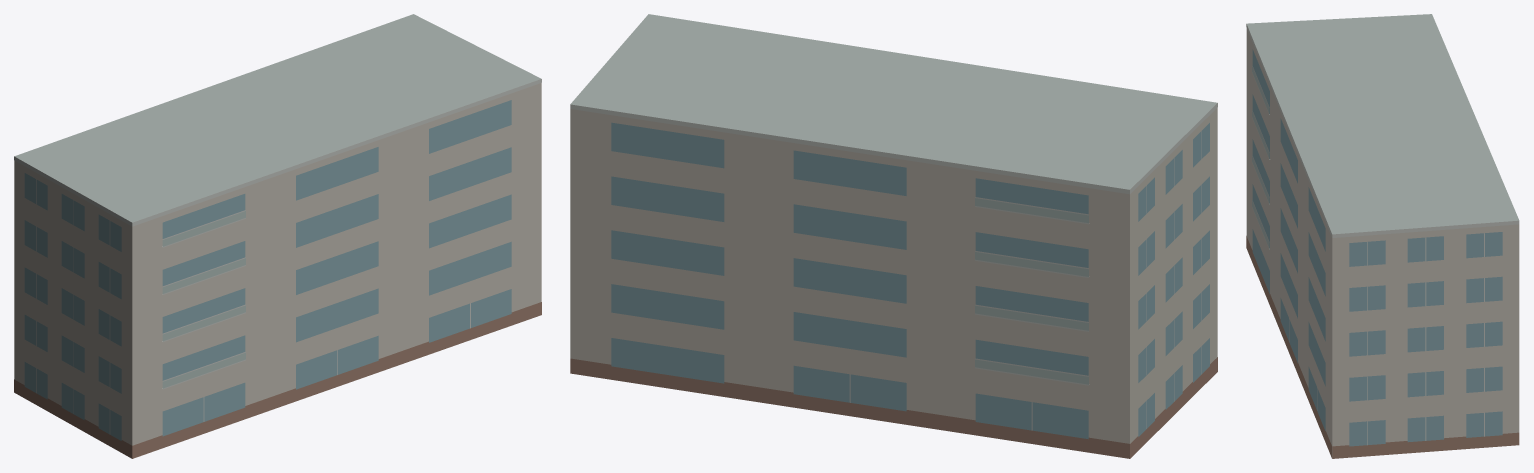
The model's file is survey-upis-32719583.glb.
3 views of the same model, side by side, from view 1: azimuth 30°, elevation 25°; view 2: azimuth 150°, elevation 25°; view 3: azimuth 270°, elevation 25° (orthographic). The views are drawn at different scales.
Visible parts, largest first — view 1: survey-upis-32719583.tmp; view 2: survey-upis-32719583.tmp; view 3: survey-upis-32719583.tmp.
Part boxes in pixels (left/top/right/bottom): survey-upis-32719583.tmp: left=14, top=14, right=541, bottom=458; survey-upis-32719583.tmp: left=570, top=14, right=1217, bottom=458; survey-upis-32719583.tmp: left=1246, top=14, right=1519, bottom=458.
Bounding box in the file's own units: 30.96 × 14.7 × 16.21.
